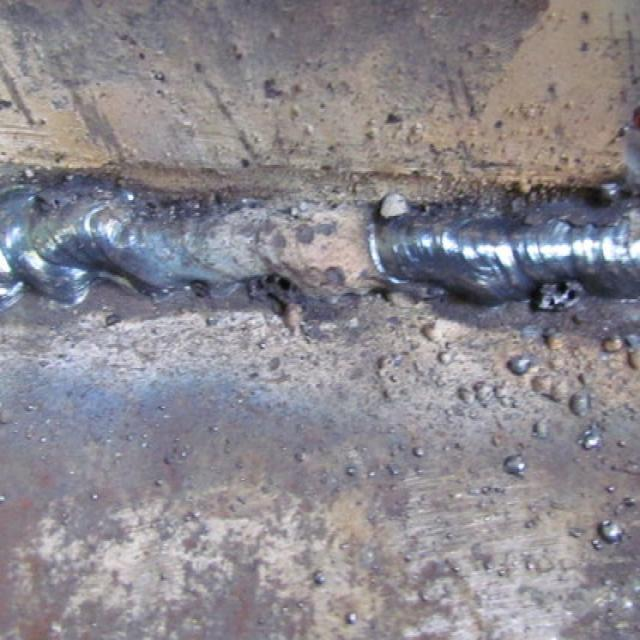Bad Welding: (0, 157, 640, 391)
